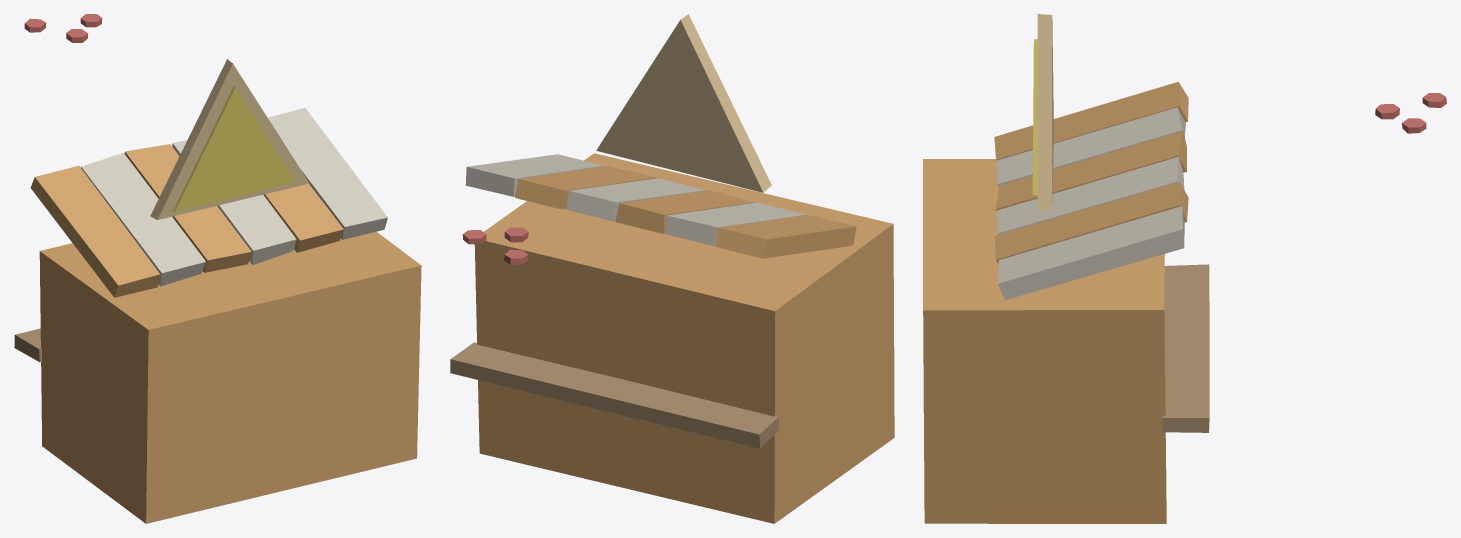
The model's file is pizzastall.fbx.
3 renders of one model, left to right at view 1: azimuth 30°, elevation 25°; view 2: azimuth 150°, elevation 25°; view 3: azimuth 270°, elevation 25°, orthographic. The views are drawn at different scales.
Parts seen in each view (by area): view 1: PizzaStall; view 2: PizzaStall; view 3: PizzaStall.
Boxes of the visible parts, x1=… form: PizzaStall: x1=14, y1=14, x2=421, y2=523; PizzaStall: x1=450, y1=14, x2=894, y2=523; PizzaStall: x1=923, y1=14, x2=1446, y2=523.
Size of the model in its own units: 2.72 by 3.59 by 3.9.
